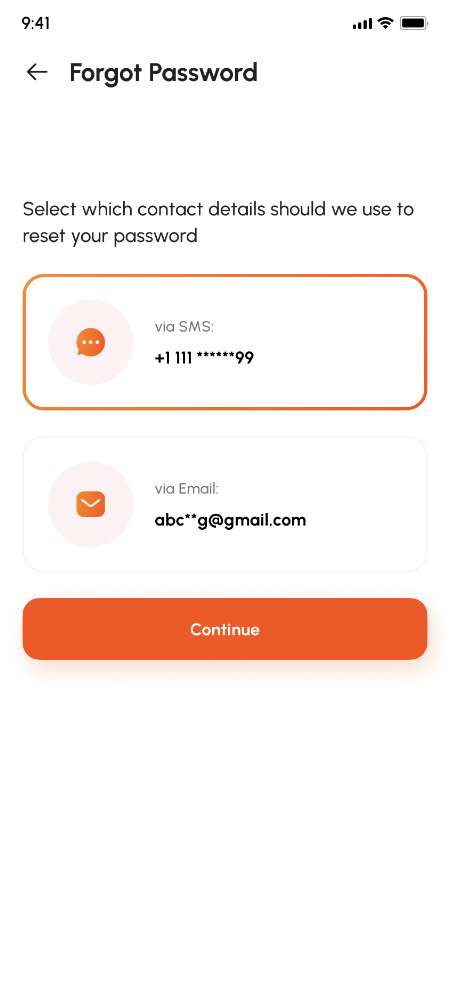IconButton: (21, 56, 52, 89)
